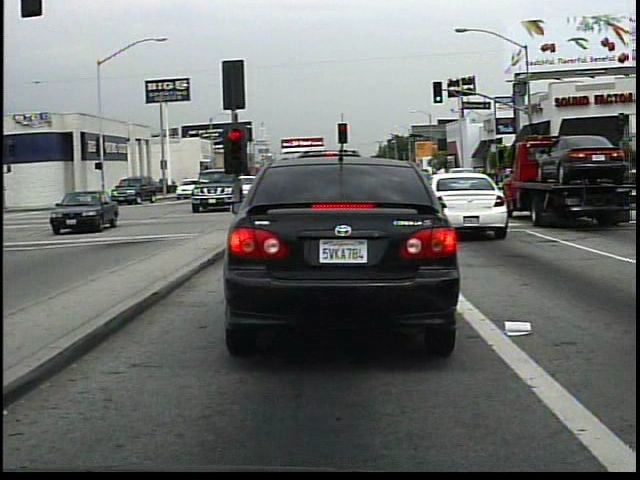person: (183, 175, 204, 200)
